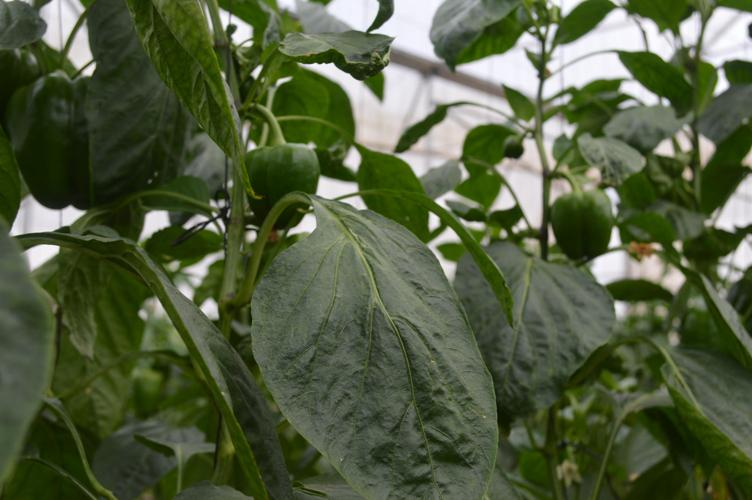BellPepper: (7, 78, 111, 215), (241, 139, 328, 236), (547, 177, 623, 272)
